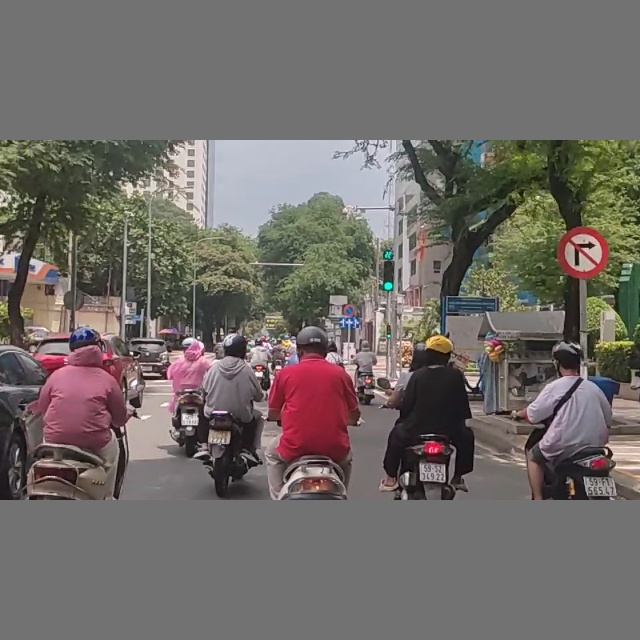P.123b: (558, 225, 611, 279)
P.131a: (340, 302, 356, 317)
